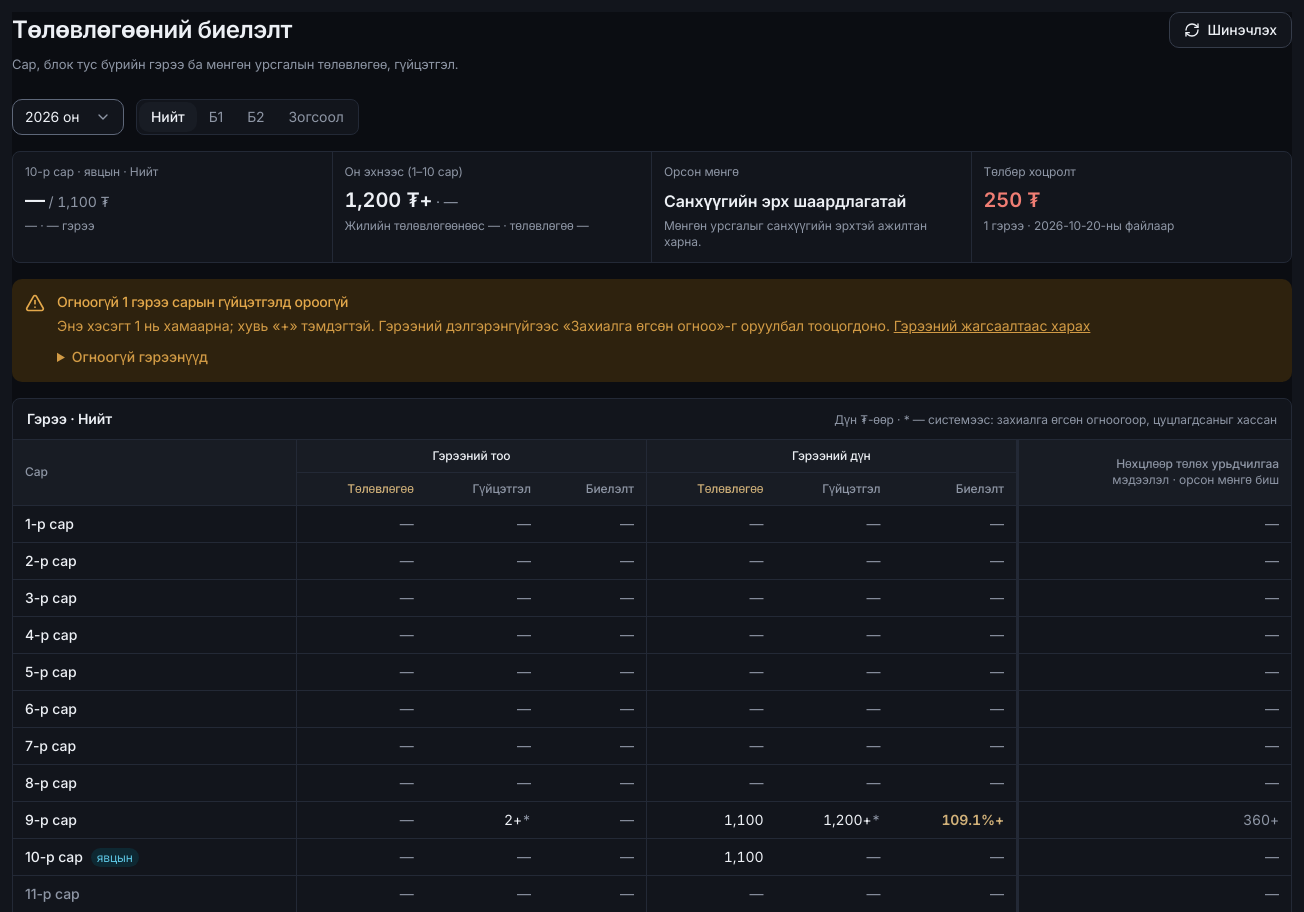
plan fulfilment page › switches to a block and keeps an undated block without contracts unknown
Expected: the column heading "9-р сар" is shown, [13, 802, 297, 839]
What coordinates should you click on to do the following:
click the button "Зогсоол"
I would click on:
 (316, 117)
Its box is [277, 102, 356, 132].
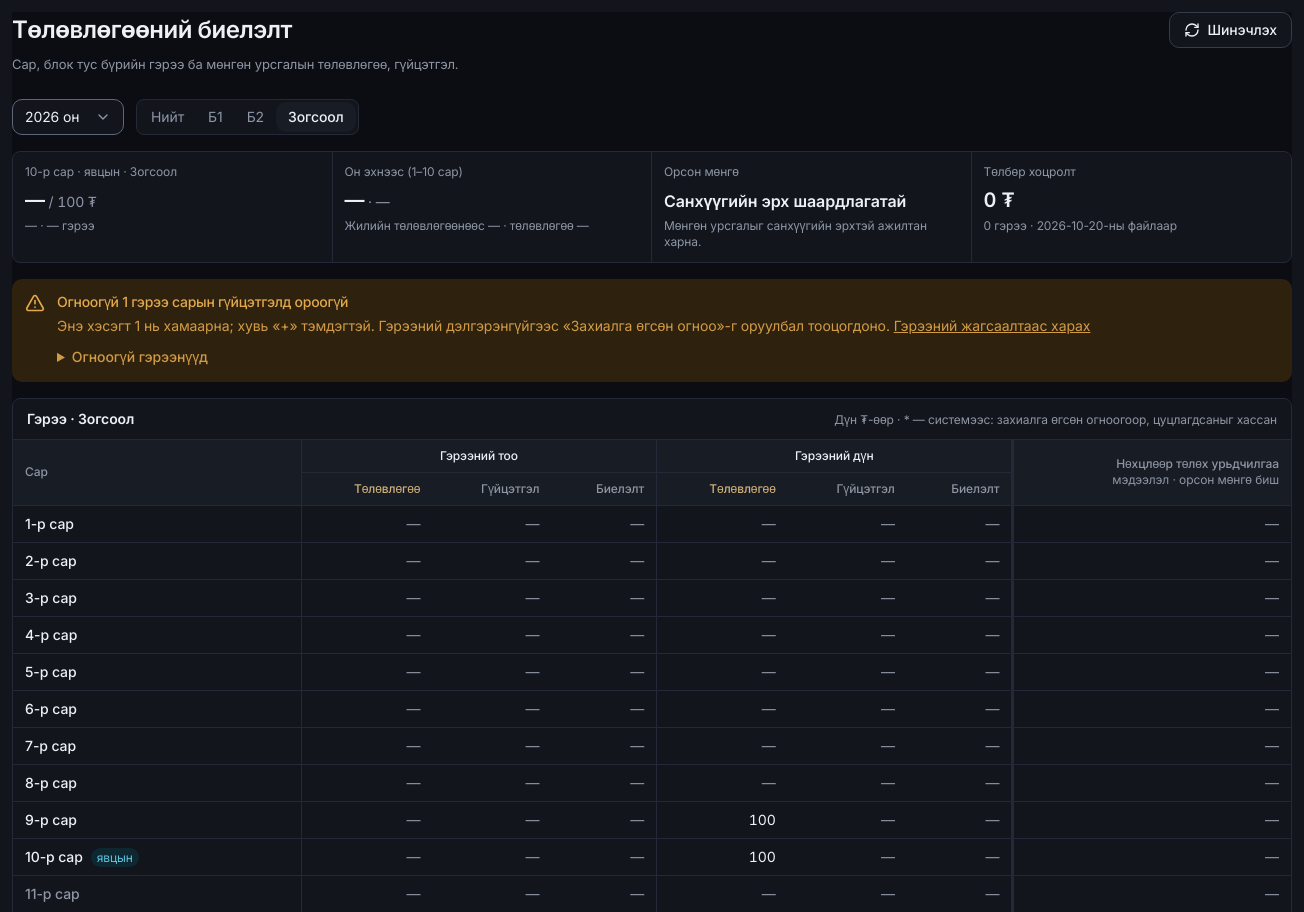
Expected: the heading "Гэрээ · Зогсоол" is shown, [27, 409, 134, 429]
Expected: the text "109.1%+" is gone
